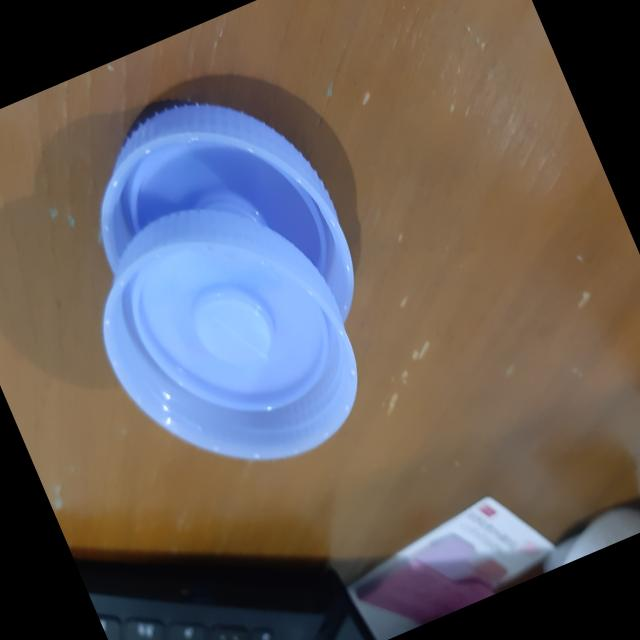TutupGalon: (23, 55, 421, 512)
